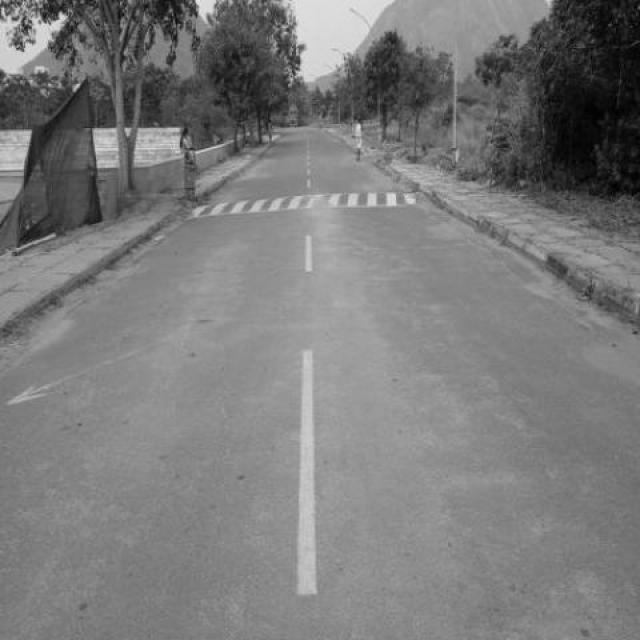Speed Bump: (192, 190, 419, 220)
